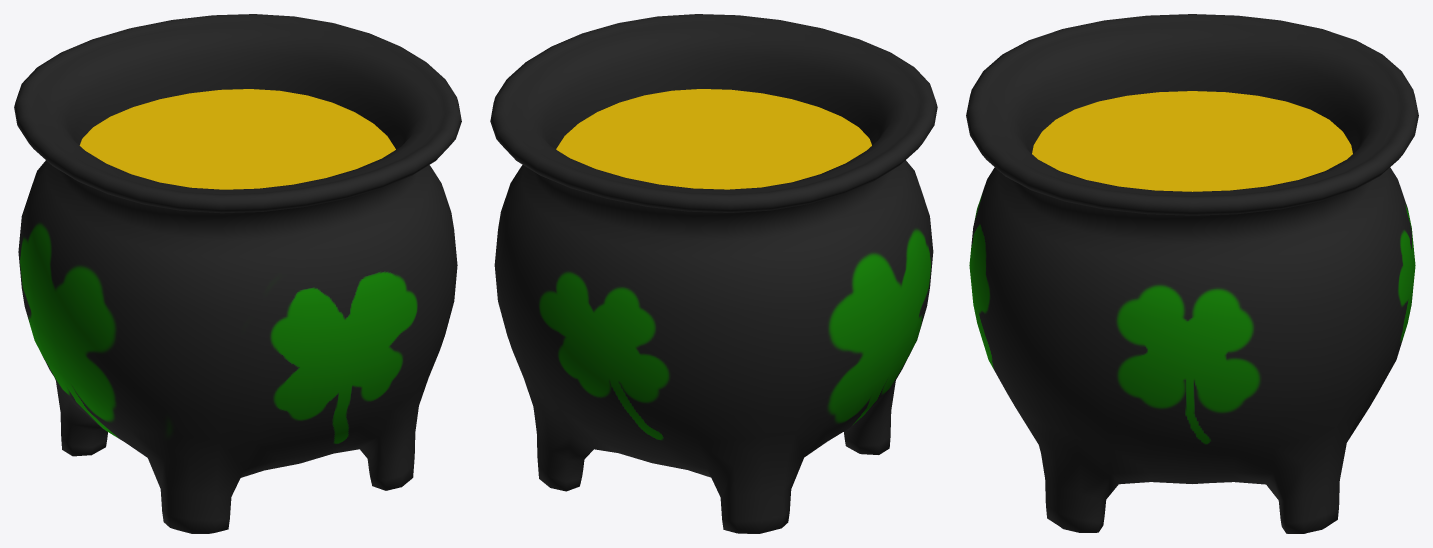
The model's file is Cauldron.glb.
The picture shows the model from 3 angles, left to right: view 1: azimuth 30°, elevation 25°; view 2: azimuth 150°, elevation 25°; view 3: azimuth 270°, elevation 25°; orthographic projection. The views are drawn at different scales.
Parts seen in each view (by area): view 1: Cauldron; view 2: Cauldron; view 3: Cauldron.
Boxes of the visible parts, x1=… form: Cauldron: x1=14, y1=14, x2=461, y2=533; Cauldron: x1=490, y1=14, x2=937, y2=533; Cauldron: x1=966, y1=14, x2=1418, y2=533.
Bounding box in the file's own units: 2.85 × 2.57 × 2.85.
Materials: 2 (1 with a texture image).
